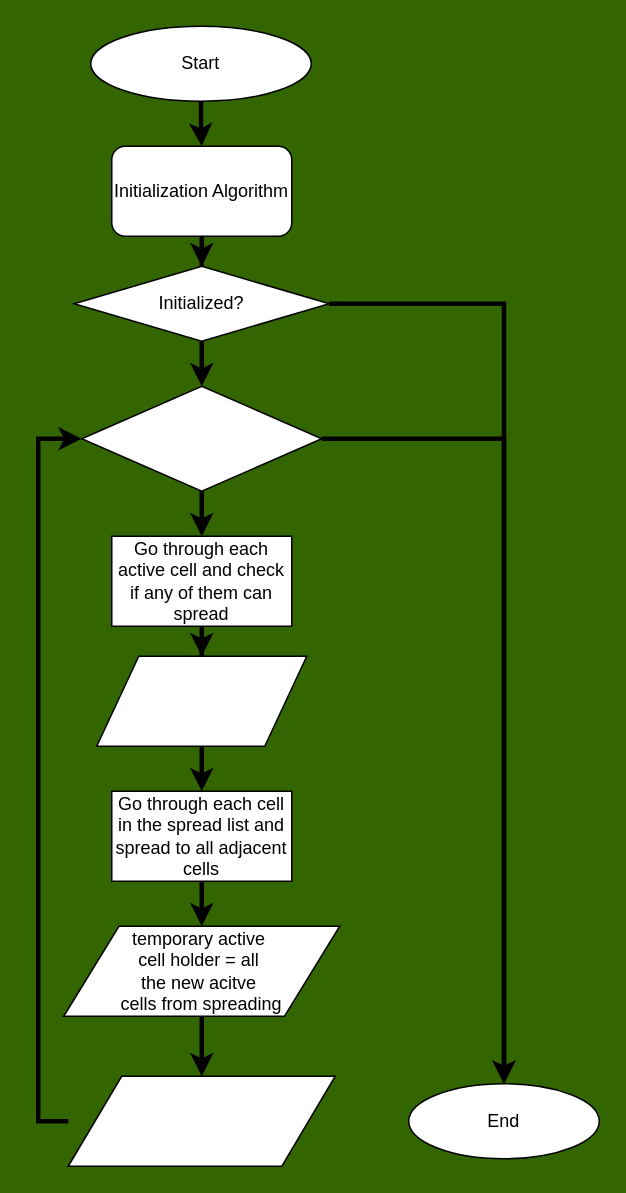
The diagram is 626 pixels wide and 1193 high, and some of its shapes have lost their labels. Each missing label, with the centre of its shape:
"Active cell holder = temporary active cell holder" goes at [201,1120].
"Number of Active Cells > 0?" goes at [201,438].
"Spread list = all spread-able a ctive cells" goes at [201,700].
